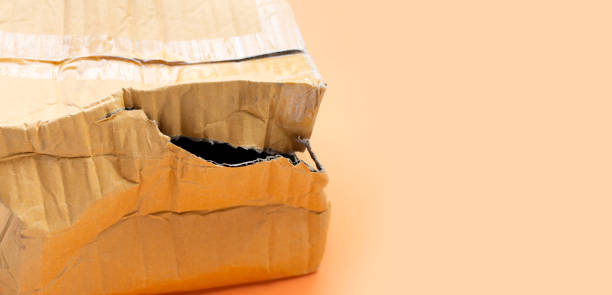damaged package: (106, 76, 332, 179)
